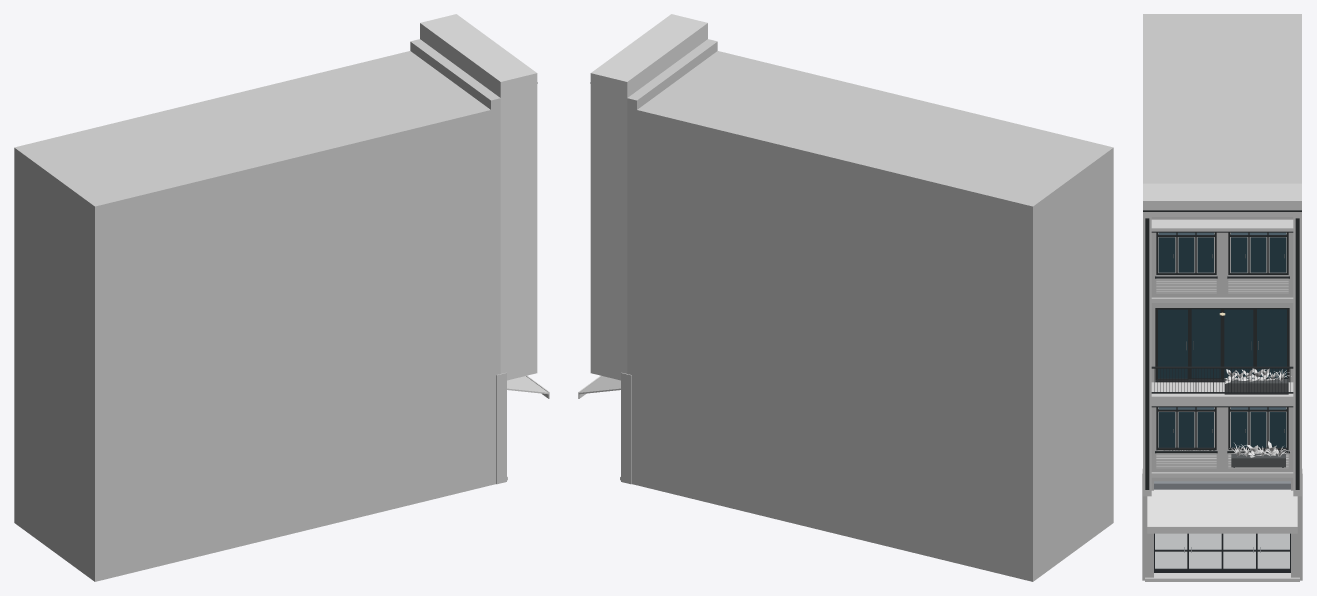
The model's file is OW_Mau_NhaPho_5_5_1.fbx.
3 views of the same model, side by side, from view 1: azimuth 30°, elevation 25°; view 2: azimuth 150°, elevation 25°; view 3: azimuth 270°, elevation 25° (orthographic).
Visible parts, largest first — view 1: OW_NhaPho_9018; view 2: OW_NhaPho_9018; view 3: OW_NhaPho_9018, OW_MatTienKinh.
Part boxes in pixels (x1,y1,x2,y2): OW_NhaPho_9018: [14, 14, 549, 581]; OW_NhaPho_9018: [578, 14, 1113, 581]; OW_NhaPho_9018: [1142, 14, 1302, 581]; OW_MatTienKinh: [1154, 481, 1290, 572].
Bounding box in the file's own units: 17.77 × 14.9 × 5.5.
